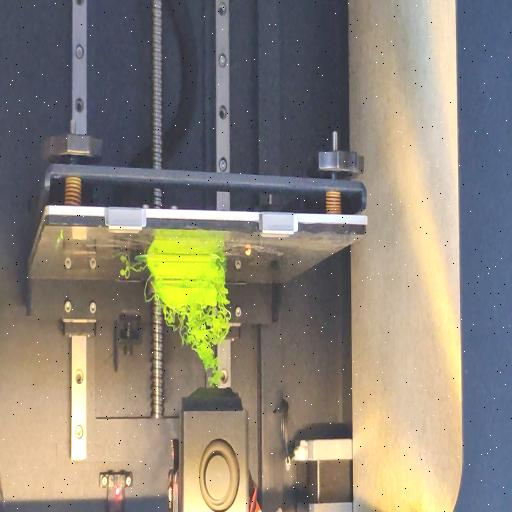spaghetti: (163, 298, 229, 388), (216, 250, 228, 298), (120, 261, 144, 279), (143, 272, 151, 304)
